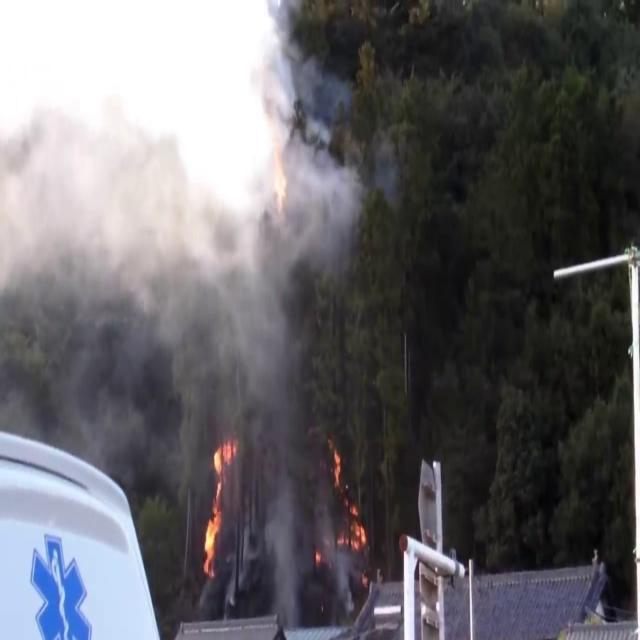Fire: (200, 430, 239, 578), (328, 438, 368, 554)
Smoke: (0, 35, 349, 500)
